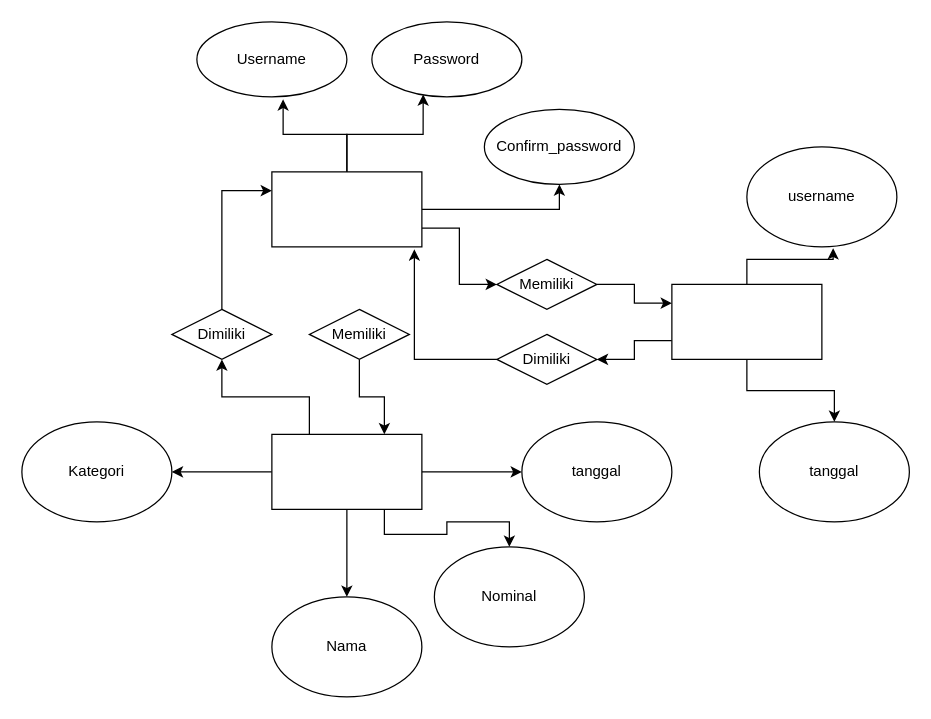
This 931x719 diagram has some shape labels left out. The shapes that lost their labels are listed below. From the top down, each one's box as (x1, y1, x2, y2) in pixels, then its label:
(271, 171, 422, 247): Pengguna
(671, 283, 822, 359): Rekap
(271, 433, 422, 509): Pemasukan / Pengeluaran
